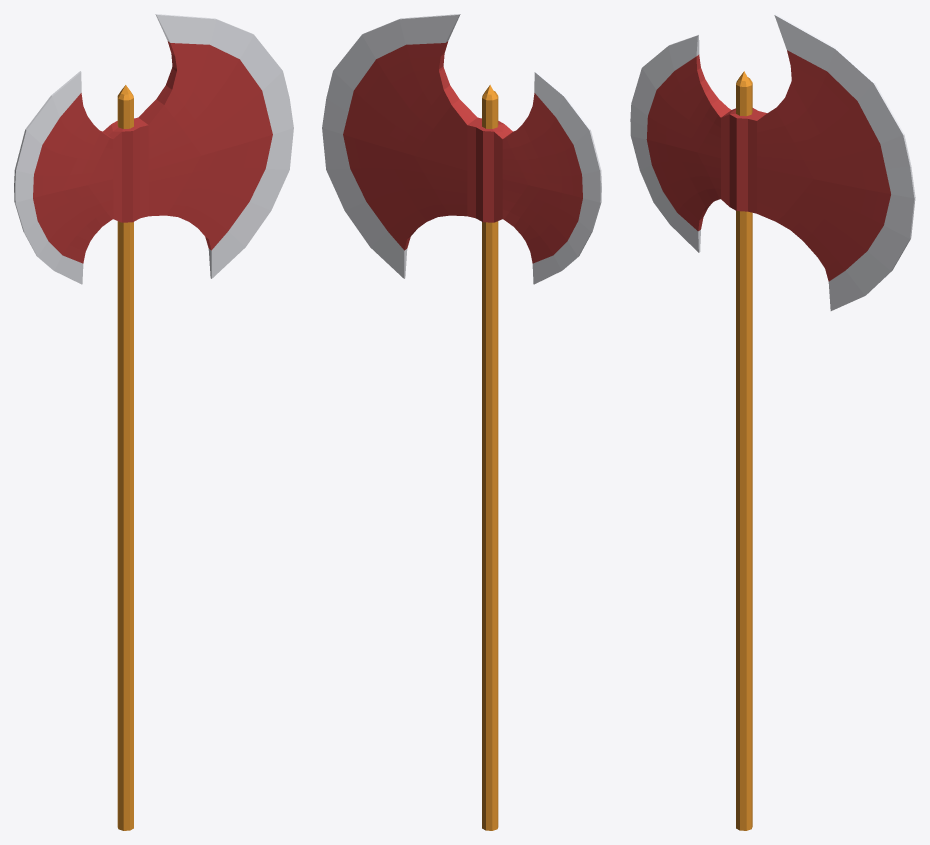
Rendered from two_handed_axe_4.fbx.
3 views of the same model, side by side, from view 1: azimuth 30°, elevation 25°; view 2: azimuth 150°, elevation 25°; view 3: azimuth 330°, elevation 25° (orthographic).
Parts seen in each view (by area): view 1: two_handed_axe_4; view 2: two_handed_axe_4; view 3: two_handed_axe_4.
Part boxes in pixels (box(x1,y1,x2,y2)): two_handed_axe_4: box(14, 14, 293, 830); two_handed_axe_4: box(322, 14, 601, 830); two_handed_axe_4: box(630, 14, 915, 830).
Size of the model in its own units: 0.7216 by 1.99 by 0.0662.
Materials: 1 (1 with a texture image).
